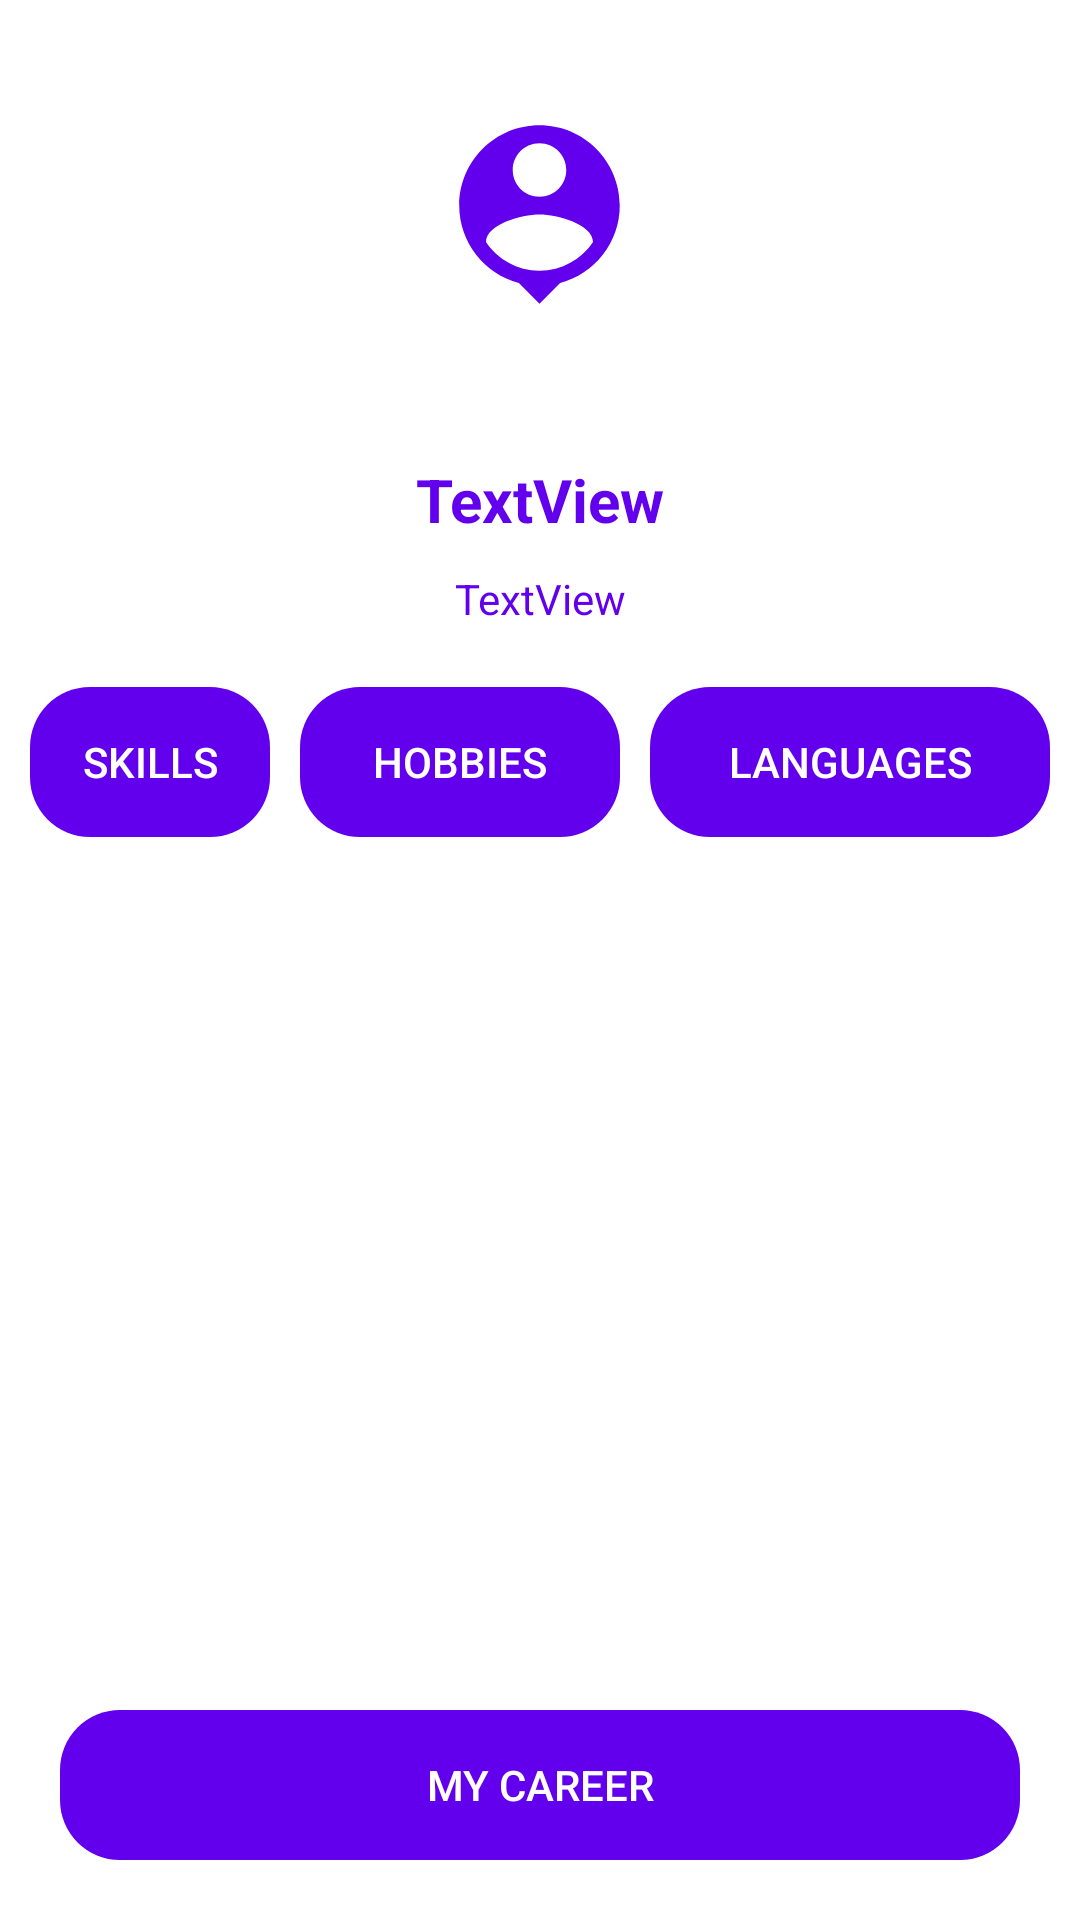

Named icons in this screenshot (1080px x 1920px) and their bounding boxes, {"x1": x1, "y1": y1, "x2": x2, "y2": y2}:
person: {"x1": 459, "y1": 125, "x2": 620, "y2": 304}
